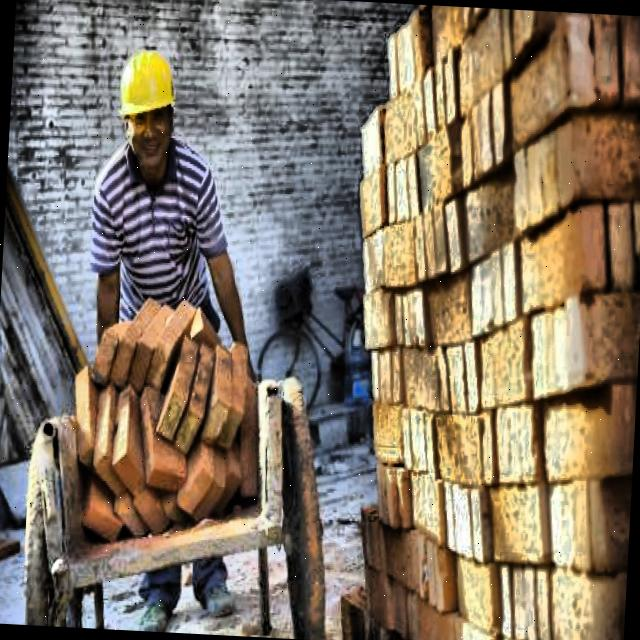helmet: (111, 35, 184, 177)
